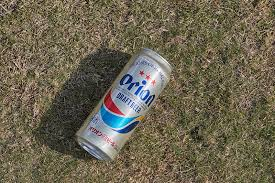can: (75, 47, 172, 162)
